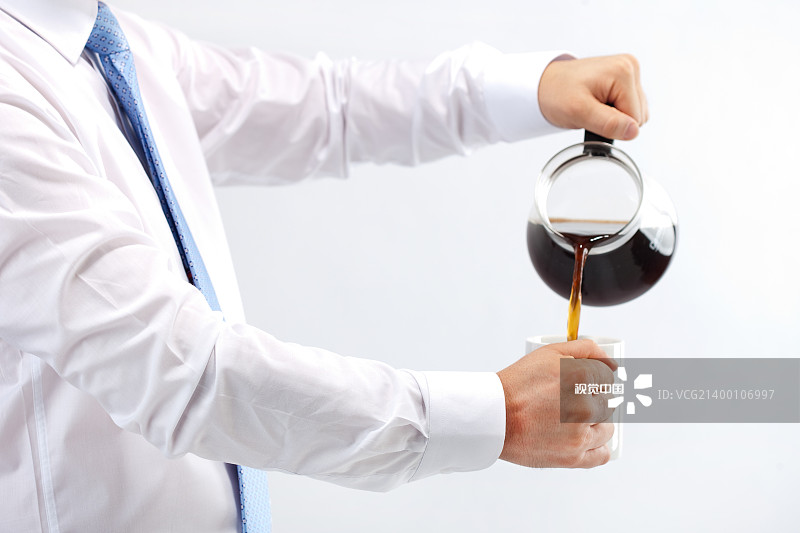no-phone: (490, 315, 628, 481), (532, 36, 659, 149)
